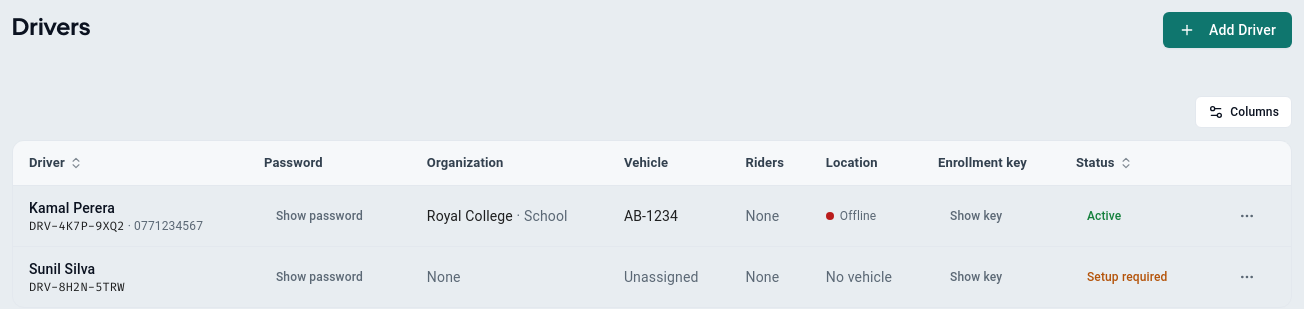
ManagerAccountsPage: enrollment key rotation › reveals each row independently — one row's key does not open another's (issue #68)
Step 1. Click the button "Show key" in the row of "Kamal Perera" → (976, 216), box x1=938 y1=200 x2=1014 y2=232
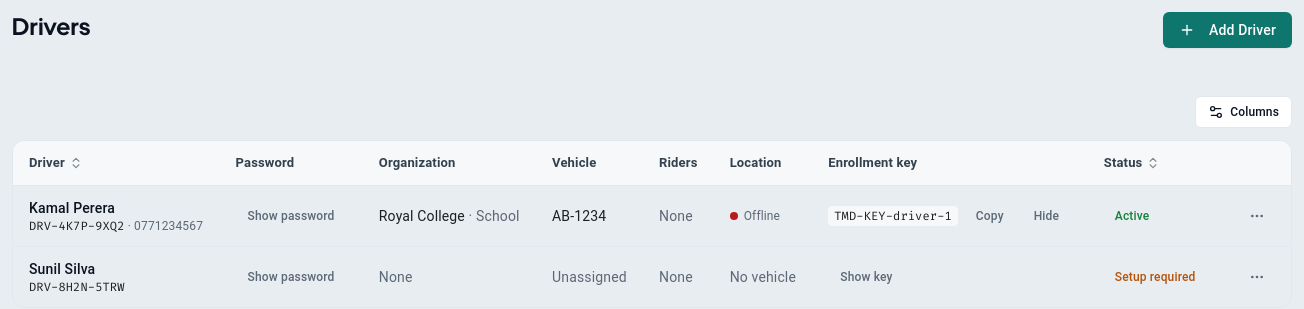
Check: the text "TMD-KEY-driver-2" is not shown
Check: the text "TMD-KEY-driver-1" is shown, box x1=828 y1=206 x2=958 y2=226
Check: the number of buttons "Show key" is 1
Step 2. Click the button "Show key" → (866, 276), box x1=828 y1=260 x2=904 y2=292
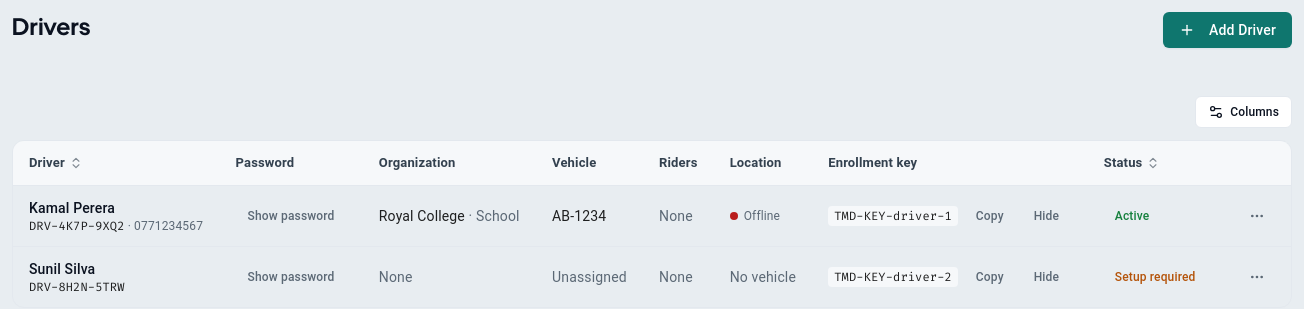
Check: the text "TMD-KEY-driver-1" is shown, box x1=828 y1=206 x2=958 y2=226
Check: the text "TMD-KEY-driver-2" is shown, box x1=828 y1=266 x2=958 y2=286
